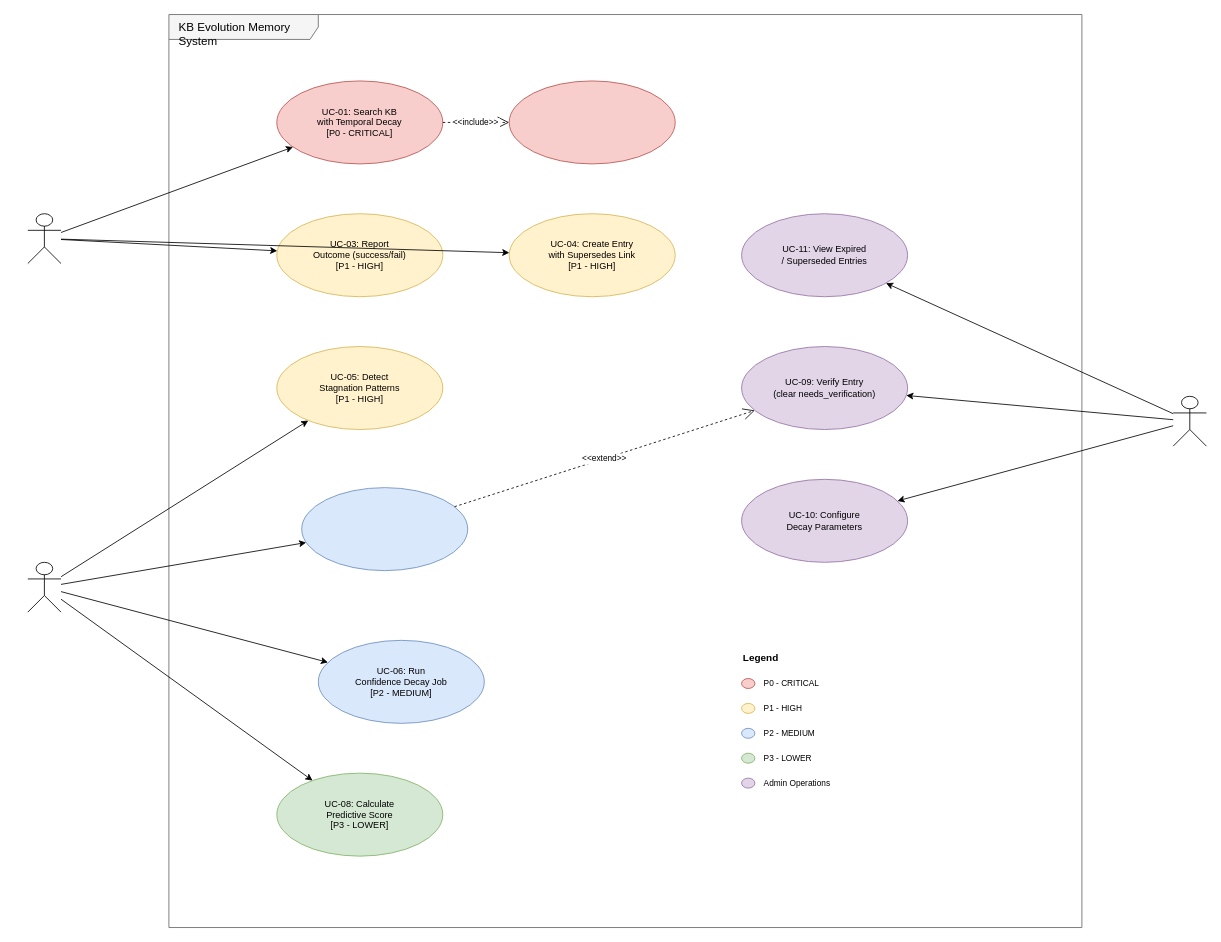
Image size: 1221x942. Some labels were removed from this diagram. Here are the shapes that lost their labels. From the top down, the centre of each, then its label:
At (x=591, y=122): "UC-02: Exclude Expired Entries [P0 - CRITICAL]".
At (x=44, y=238): "AI Agent".
At (x=1189, y=420): "Admin".
At (x=384, y=529): "UC-07: Trigger Epoch Boundary [P2 - MEDIUM]".
At (x=44, y=586): "System (Background)".
